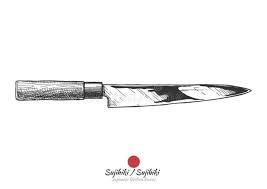Knife: (14, 79, 252, 108)
